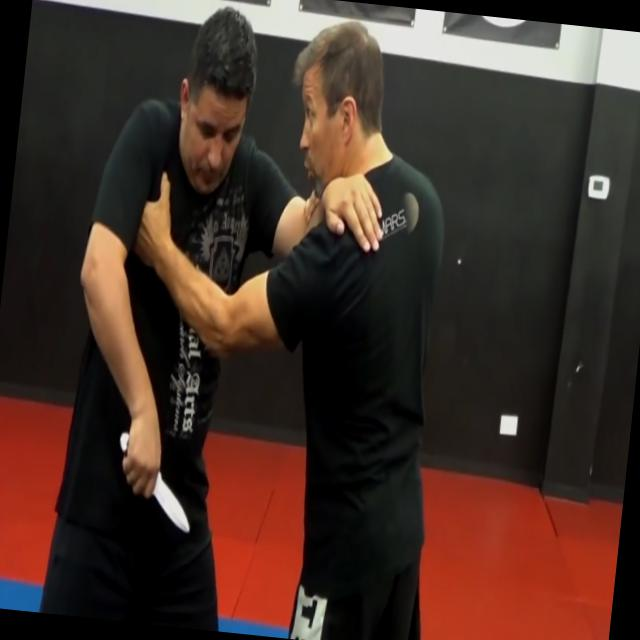knife: (108, 423, 203, 539)
